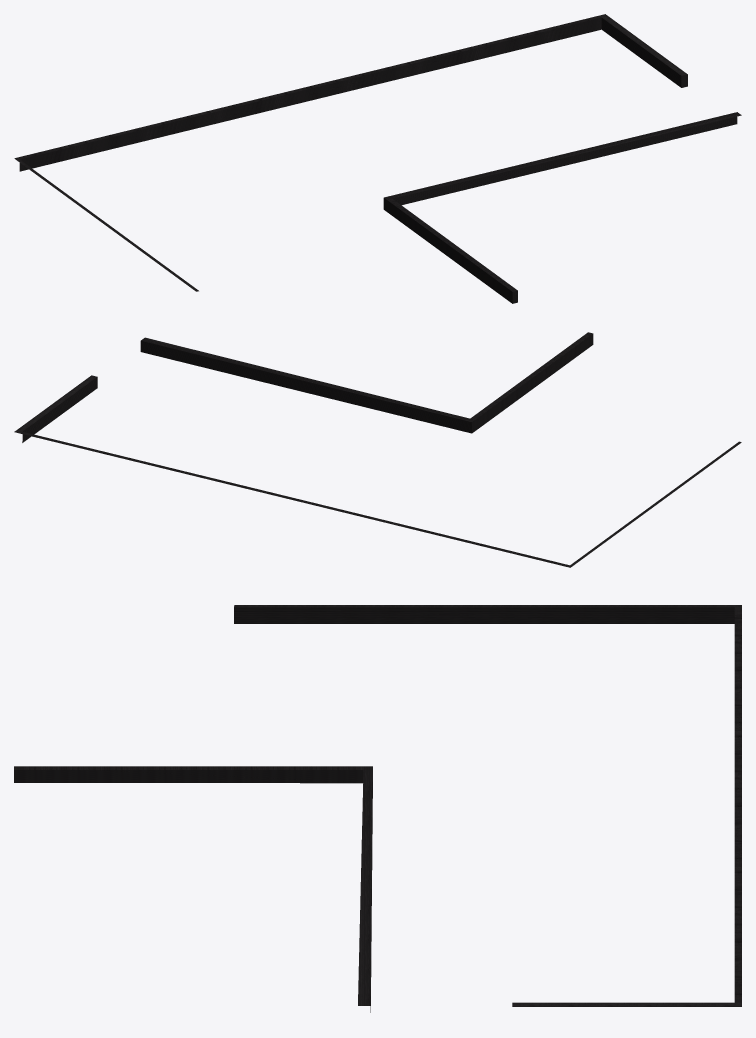
The model's file is bartender skirting.FBX.
3 views of the same model, one above another, from view 1: azimuth 30°, elevation 25°; view 2: azimuth 150°, elevation 25°; view 3: azimuth 270°, elevation 25° (orthographic). The views are drawn at different scales.
Visible parts, largest first — view 1: Skirting; view 2: Skirting; view 3: Skirting.
Part boxes in pixels (x1,y1,x2,y2): Skirting: (14,14,741,303); Skirting: (14,332,741,567); Skirting: (14,605,741,1012).
Size of the model in its own units: 290 by 5.69 by 222.
1 material, 1 textured.
